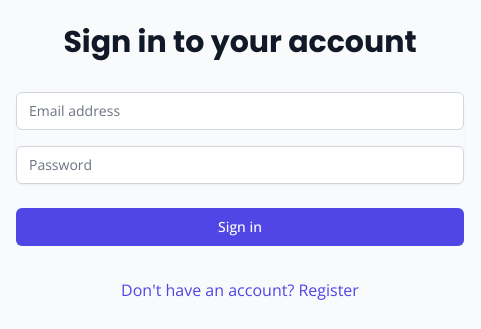
it: Login Component › validates password minimum length
Type "test@example.com" into the field with placeholder "Email address" at (240, 111), box [16,92,464,130]
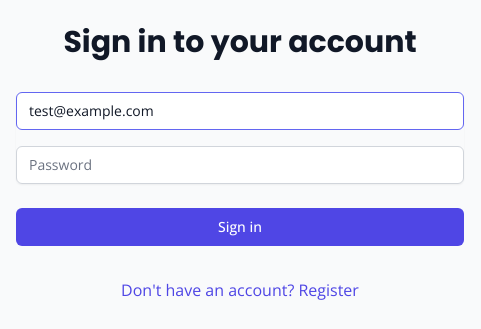
Type "12345" into the password field with placeholder "Password" at (240, 165), box [16,146,464,184]
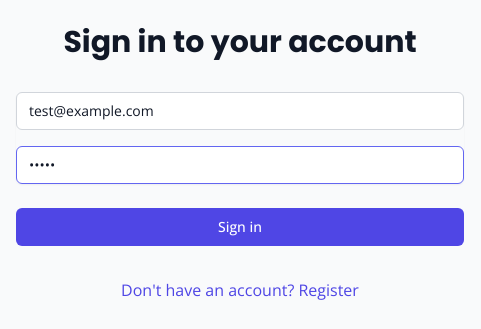
Click the button "Sign in" at (240, 227), box [16,208,464,246]
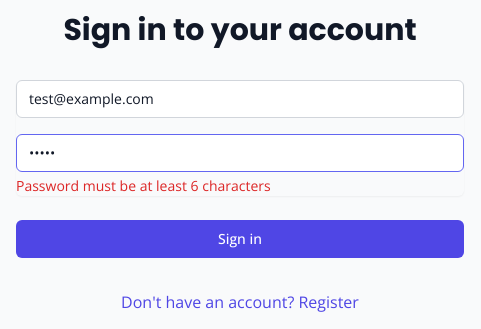
Check: the text "Password must be at least 6 characters" is shown, box [16,176,271,195]
